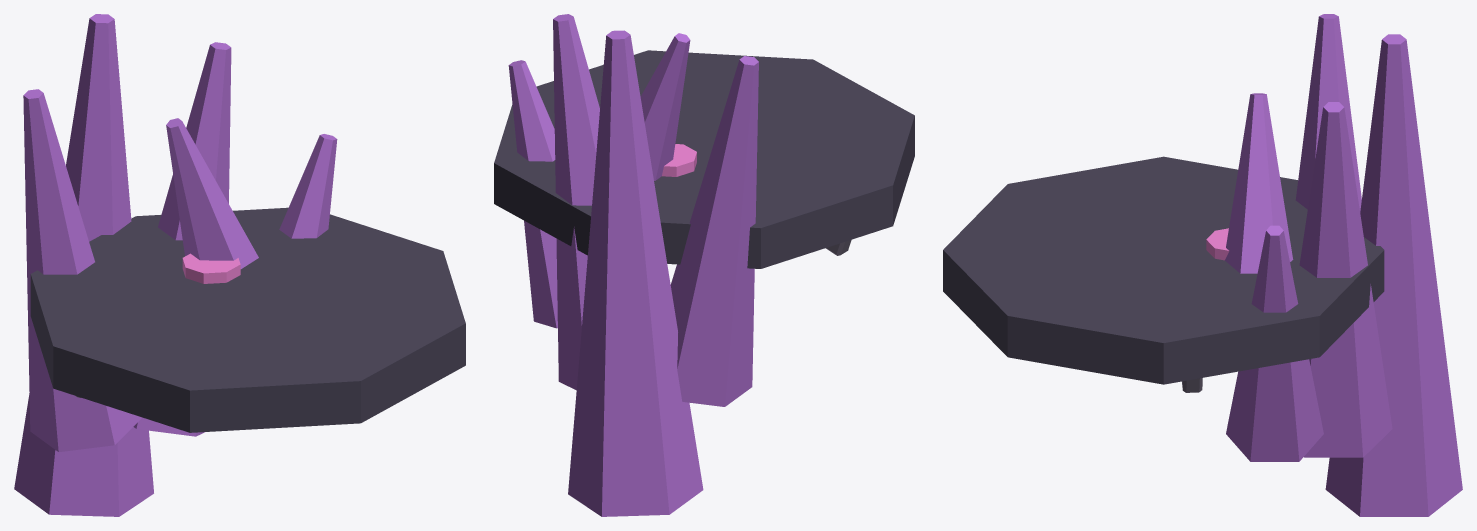
The model's file is CrystalCluster.fbx.
3 renders of one model, left to right at view 1: azimuth 30°, elevation 25°; view 2: azimuth 150°, elevation 25°; view 3: azimuth 270°, elevation 25°, orthographic. The views are drawn at different scales.
Parts seen in each view (by area): view 1: CrystalBase, CrystalShard.001, CrystalShard, CrystalShard.004, CrystalShard.002, CrystalShard.003, CrystalCore; view 2: CrystalBase, CrystalShard.001, CrystalShard, CrystalShard.002, CrystalShard.003, CrystalShard.004, CrystalCore; view 3: CrystalBase, CrystalShard.001, CrystalShard.002, CrystalShard.003, CrystalShard.004, CrystalShard.
Boxes of the visible parts, x1,y1,x2,y2 form: CrystalBase: (30,207,465,432); CrystalShard.001: (14,14,153,516); CrystalShard: (23,89,142,451); CrystalShard.004: (166,118,258,268); CrystalShard.002: (133,42,231,436); CrystalShard.003: (279,134,337,238); CrystalCore: (182,253,240,283); CrystalBase: (494,50,914,268); CrystalShard.001: (568,30,703,516); CrystalShard: (670,56,758,406); CrystalShard.002: (553,14,599,390); CrystalShard.003: (508,60,557,328); CrystalShard.004: (640,33,690,180); CrystalCore: (662,144,696,176); CrystalBase: (943,156,1384,384); CrystalShard.001: (1325,34,1462,516); CrystalShard.002: (1299,102,1392,457); CrystalShard.003: (1226,225,1323,461); CrystalShard.004: (1225,93,1293,273); CrystalShard: (1295,14,1361,212).
Bounding box in the file's own units: 270 × 311 × 318.
